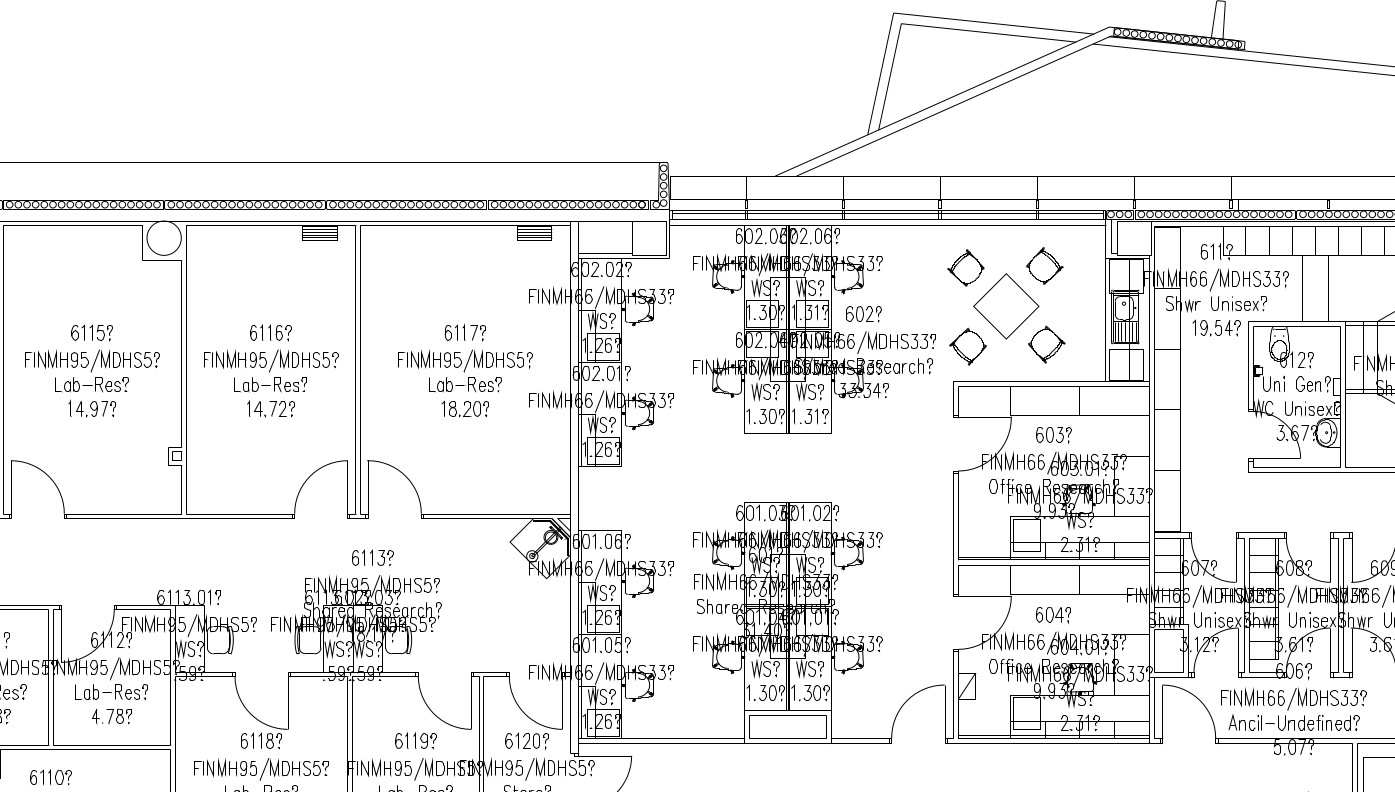door: (7, 457, 67, 519), (57, 603, 117, 665), (289, 457, 349, 519), (364, 456, 424, 518), (231, 673, 291, 735), (414, 671, 474, 733), (505, 669, 565, 731), (887, 681, 947, 743), (952, 415, 1012, 477), (952, 593, 1012, 655), (1157, 680, 1217, 742), (1248, 407, 1304, 465), (1190, 623, 1242, 681), (1188, 530, 1240, 588), (1281, 529, 1333, 587), (1343, 532, 1395, 590), (1343, 624, 1395, 682), (1282, 622, 1334, 680)
